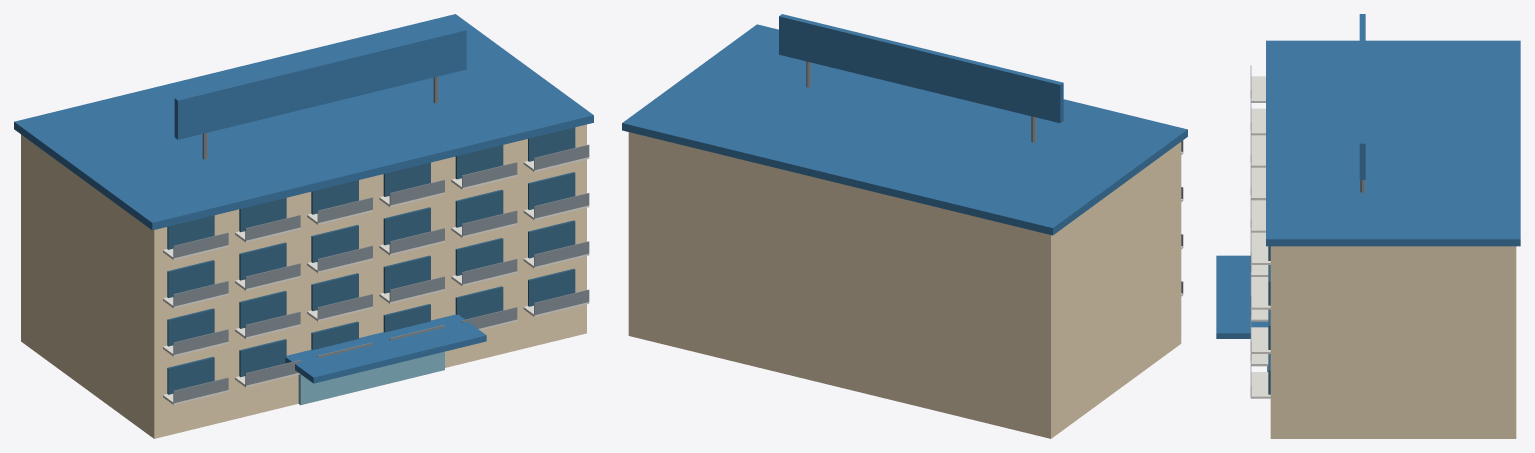
File: hotel.glb
3 renders of one model, left to right at view 1: azimuth 30°, elevation 25°; view 2: azimuth 150°, elevation 25°; view 3: azimuth 270°, elevation 25°, orthographic. The views are drawn at different scales.
Visible parts, largest first — view 1: Cube.001; view 2: Cube.001; view 3: Cube.001.
Part boxes in pixels (x1,y1,x2,y2): Cube.001: (14,14,593,438); Cube.001: (622,14,1187,438); Cube.001: (1216,14,1520,438).
Size of the model in its own units: 30.6 by 18.9 by 19.85.
